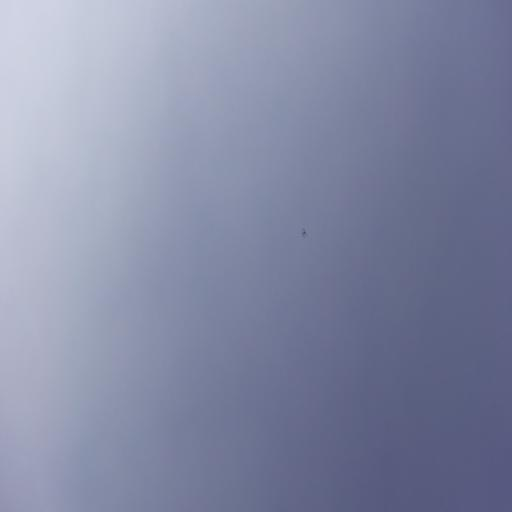drones: (301, 228, 307, 239)
